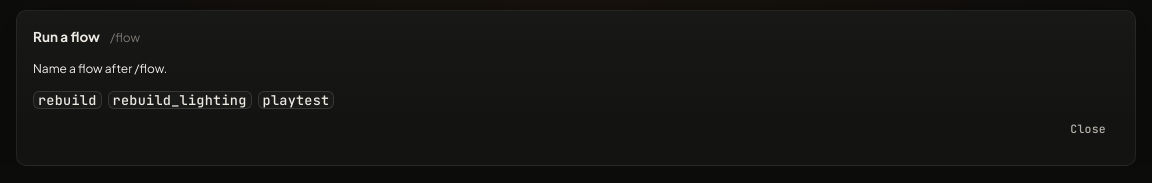
Test: the /flow form › lists the flows when none is named, and says when the run cannot start
Expected: the text "Name a flow after /flow." is shown, [33, 61, 167, 76]
Click the button "rebuild": (67, 100) [33, 90, 102, 109]
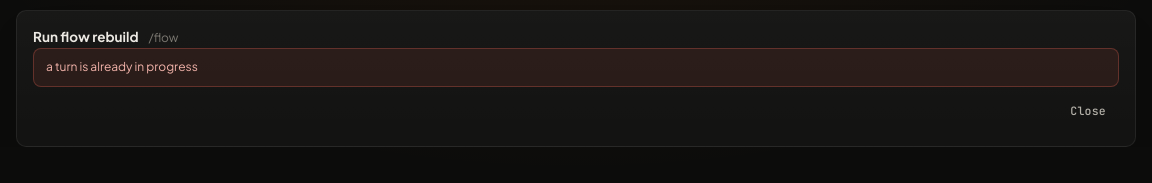
Result: the text "a turn is already in progress" is shown at [33, 48, 1119, 86]
